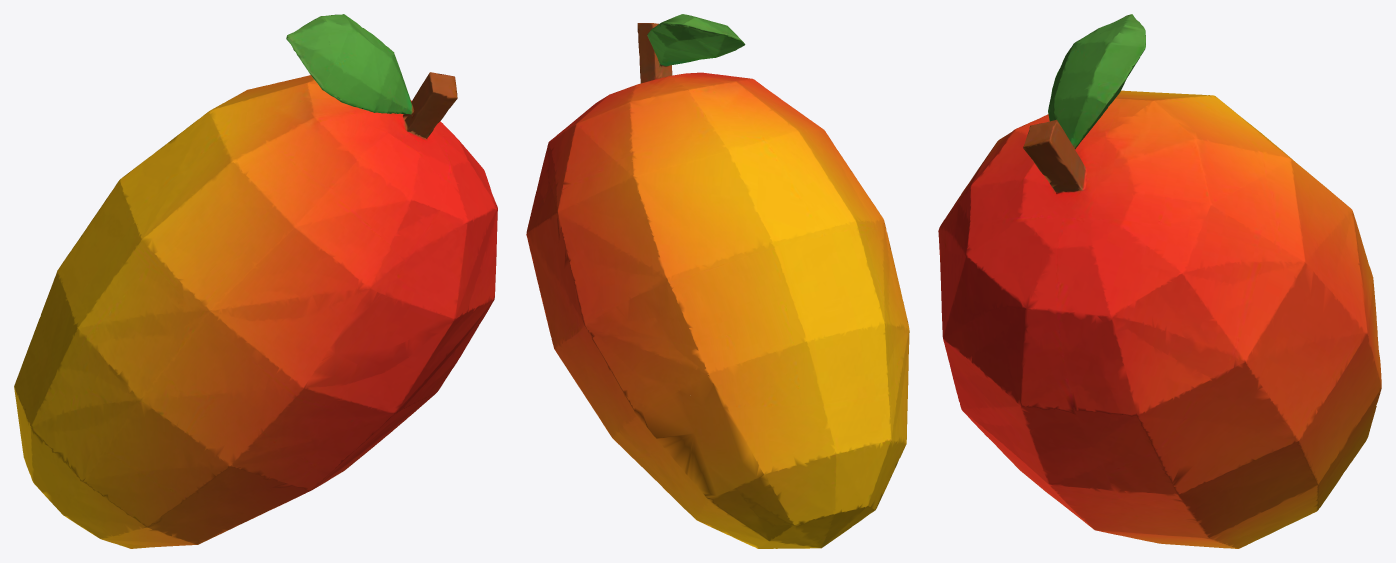
File: mango.glb
The picture shows the model from 3 angles, left to right: view 1: azimuth 30°, elevation 25°; view 2: azimuth 150°, elevation 25°; view 3: azimuth 270°, elevation 25°; orthographic projection. The views are drawn at different scales.
Visible parts, largest first — view 1: tripo_node_0d61d9ce-0b08-4234-a424-16a721fb7407; view 2: tripo_node_0d61d9ce-0b08-4234-a424-16a721fb7407; view 3: tripo_node_0d61d9ce-0b08-4234-a424-16a721fb7407.
Part boxes in pixels (x1=…): tripo_node_0d61d9ce-0b08-4234-a424-16a721fb7407: x1=14, y1=14, x2=497, y2=548; tripo_node_0d61d9ce-0b08-4234-a424-16a721fb7407: x1=526, y1=14, x2=909, y2=548; tripo_node_0d61d9ce-0b08-4234-a424-16a721fb7407: x1=938, y1=14, x2=1381, y2=548.
Size of the model in its own units: 0.8233 by 0.9799 by 0.6791.
Materials: 1 (1 with a texture image).
